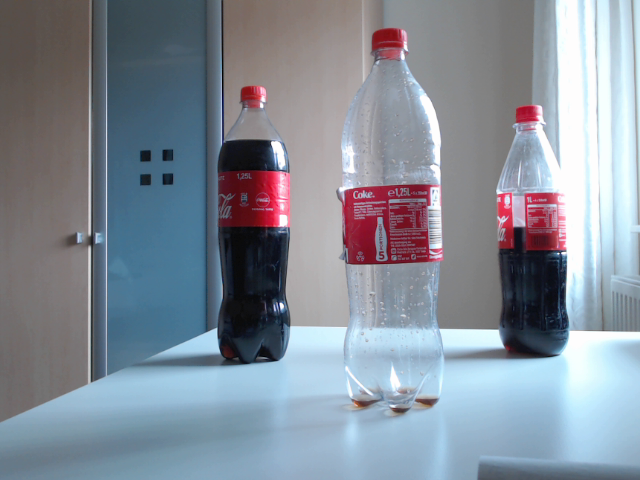bottle: (341, 28, 445, 414), (217, 86, 291, 364), (495, 105, 570, 357)
